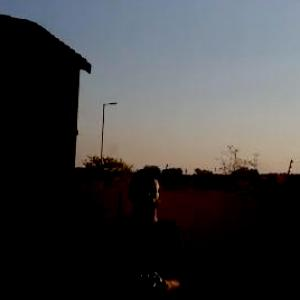follow: (92, 163, 192, 299)
